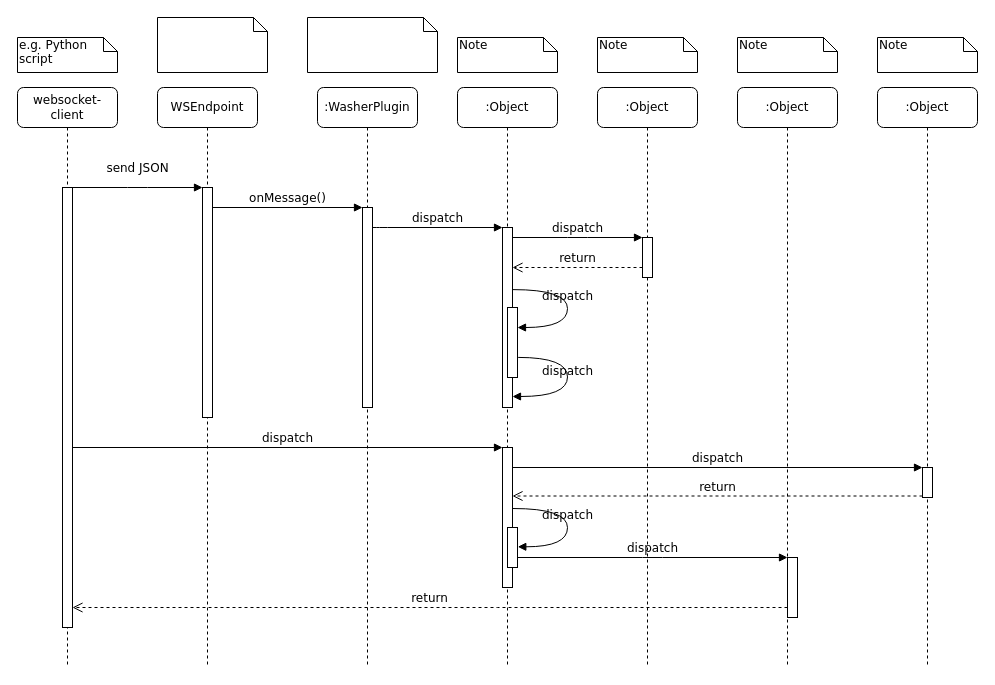
Some shapes in this 995 by 685 pixel diagram are drawn without their labels. The shapes that lost their labels are listed below. From the top down, each one's centre as x and y in pixels, then its label:
the point at 212,44: the plugin's websocket endpoint listener
the point at 372,44: process() a WebsocketMessage instance
